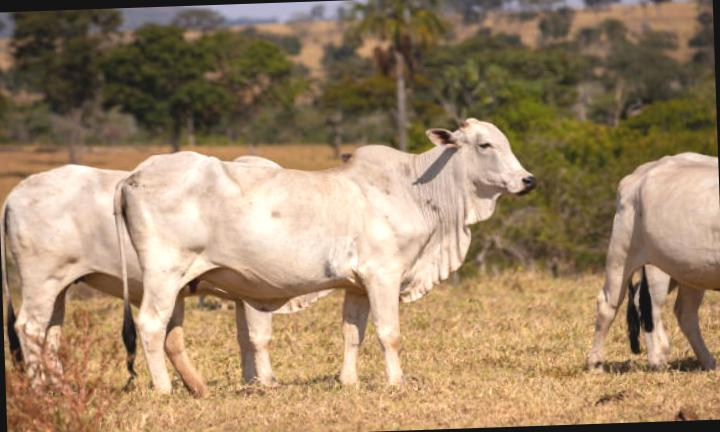Brahman: (116, 118, 536, 392)
